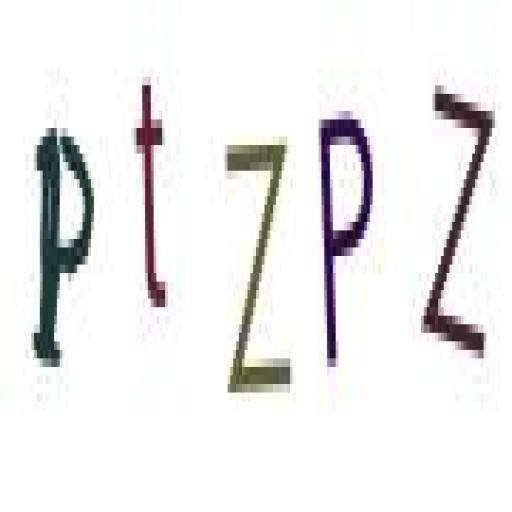P: (23, 89, 100, 391), (311, 91, 382, 381)
Z: (216, 116, 304, 404), (420, 60, 498, 382)
t: (127, 69, 183, 328)
